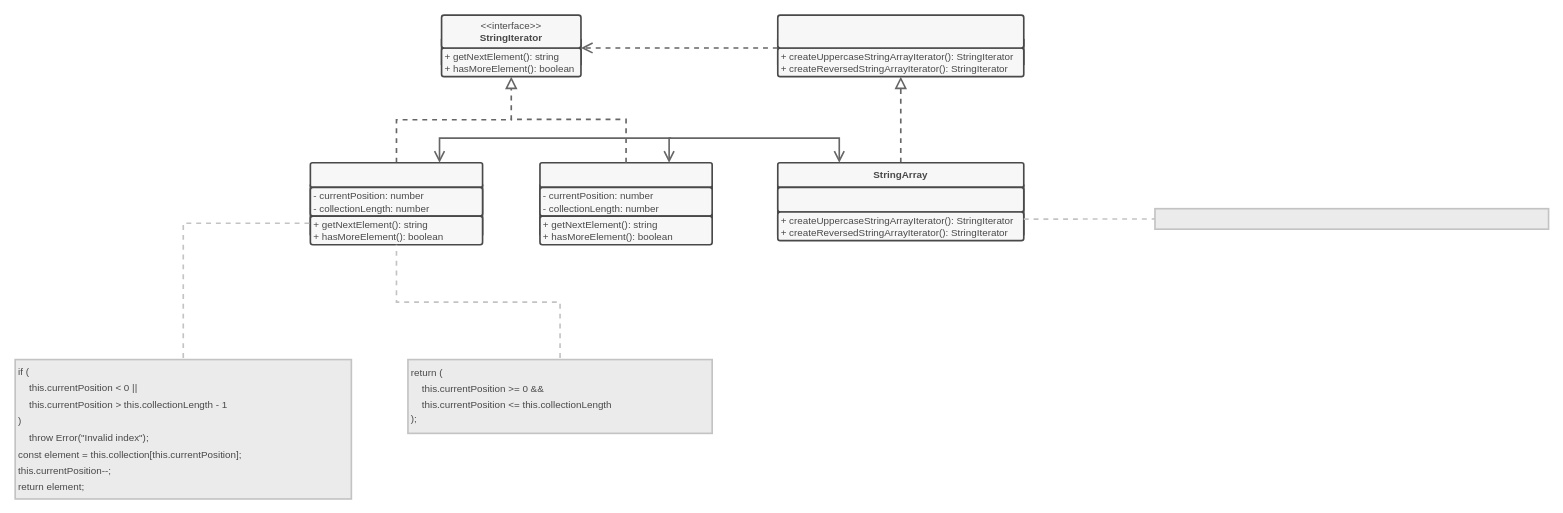
This 1563x513 diagram has some shape labels left out. The centre of each missing label's shape, as x and y in pixels:
"- stringCollection: string[]" belongs at point (900, 199).
"<<interface>> StringArrayCollection" belongs at point (900, 31).
"return new UppercaseStringArrayIterator(this.stringCollection);" belongs at point (1351, 218).
"ReversedStringArrayIterator" belongs at point (396, 175).
"UppercaseStringArrayIterator" belongs at point (626, 175).
